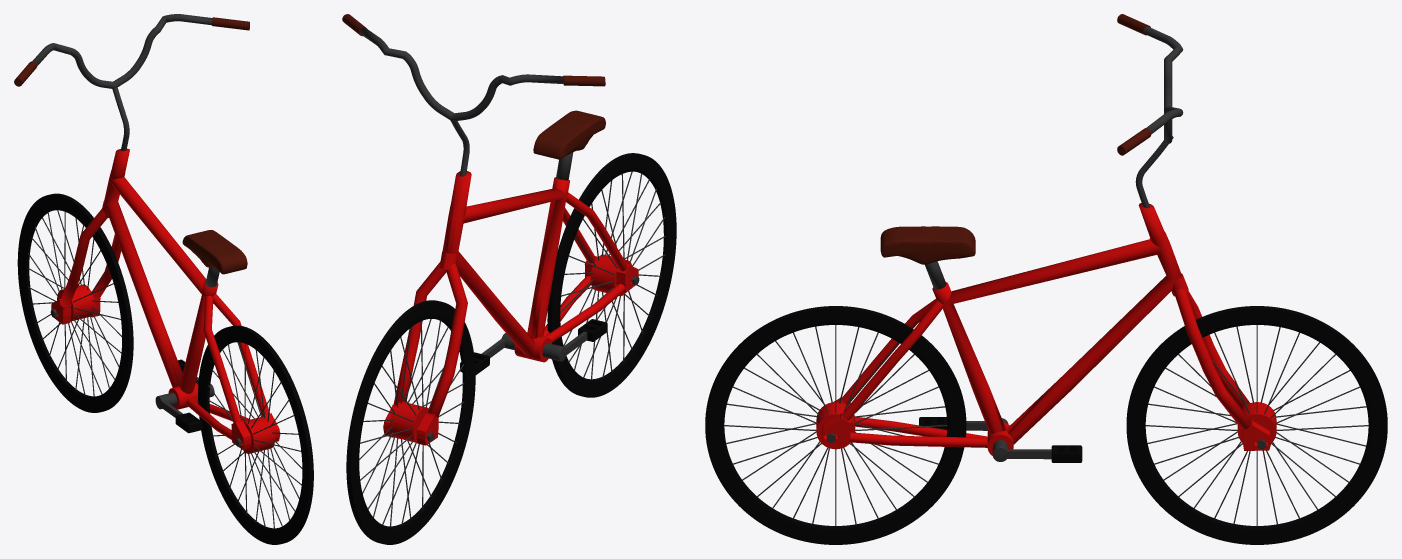
File: bike.obj
The picture shows the model from 3 angles, left to right: view 1: azimuth 30°, elevation 25°; view 2: azimuth 150°, elevation 25°; view 3: azimuth 270°, elevation 25°; orthographic projection. The views are drawn at different scales.
Parts seen in each view (by area): view 1: Obj_Rahmen, Obj_Reifen_Vorne, Obj_Reifen_hinten, Obj_Pedale_Links; view 2: Obj_Rahmen, Obj_Reifen_Vorne, Obj_Reifen_hinten, Obj_Pedale_Links, Obj_Pedale_Rechts; view 3: Obj_Rahmen, Obj_Reifen_Vorne, Obj_Reifen_hinten, Obj_Pedale_Rechts.
Boxes of the visible parts, box(x1,y1,x2,y2) form: Obj_Rahmen: box(14, 14, 280, 449); Obj_Reifen_Vorne: box(17, 193, 133, 412); Obj_Reifen_hinten: box(198, 325, 313, 544); Obj_Pedale_Links: box(155, 392, 202, 433); Obj_Rahmen: box(342, 14, 639, 445); Obj_Reifen_Vorne: box(346, 300, 475, 544); Obj_Reifen_hinten: box(547, 153, 676, 397); Obj_Pedale_Links: box(542, 319, 607, 361); Obj_Pedale_Rechts: box(460, 333, 514, 374); Obj_Rahmen: box(822, 14, 1270, 455); Obj_Reifen_Vorne: box(1126, 306, 1387, 544); Obj_Reifen_hinten: box(705, 306, 966, 544); Obj_Pedale_Rechts: box(992, 440, 1082, 462).
Size of the model in its own units: 2.25 by 3.65 by 4.81.
